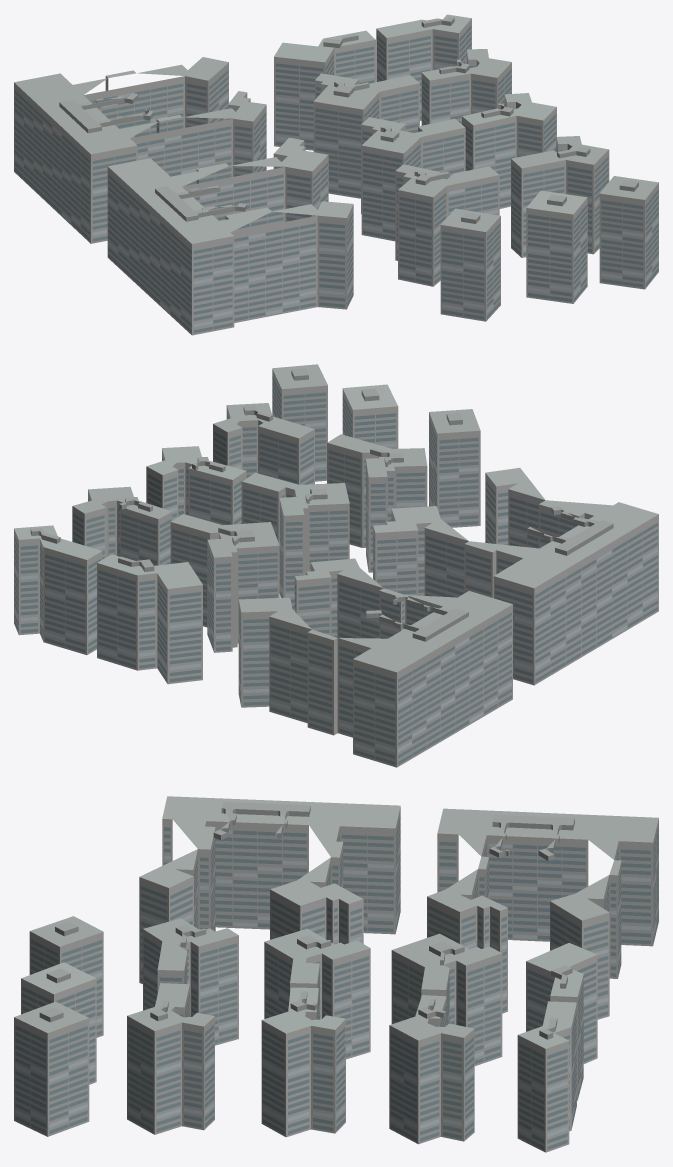
File: apt-a15728011.glb
3 views of the same model, one above another, from view 1: azimuth 30°, elevation 25°; view 2: azimuth 150°, elevation 25°; view 3: azimuth 270°, elevation 25° (orthographic). The views are drawn at different scales.
Visible parts, largest first — view 1: apt-a15728011; view 2: apt-a15728011; view 3: apt-a15728011.
Boxes of the visible parts, x1,y1,x2,y2 form: apt-a15728011: (14,14,658,335); apt-a15728011: (14,364,658,767); apt-a15728011: (14,796,658,1152).
Bounding box in the file's own units: 237 × 49 × 258.
